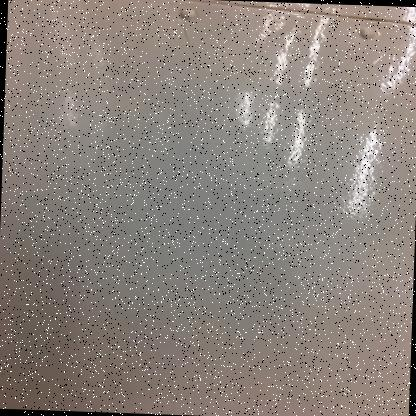Nocrack: (4, 5, 415, 408)
